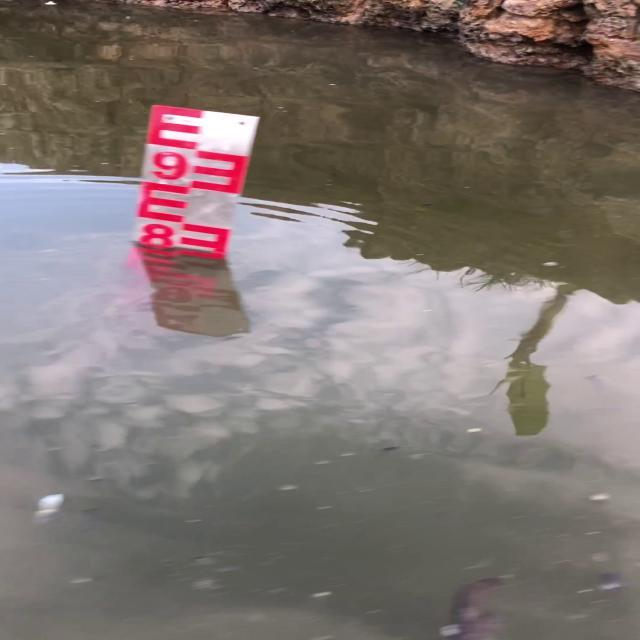ruler: (121, 99, 268, 263)
value: (144, 140, 192, 188), (138, 214, 177, 258)
